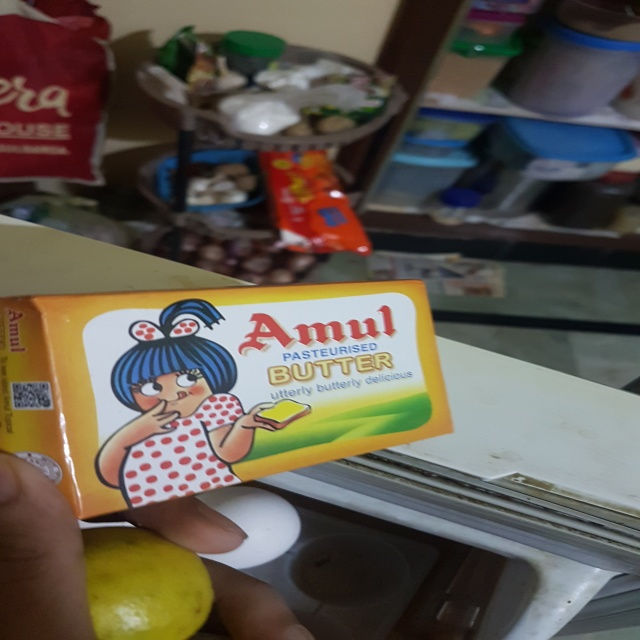butter: (3, 284, 464, 517)
lemon: (78, 520, 215, 637)
